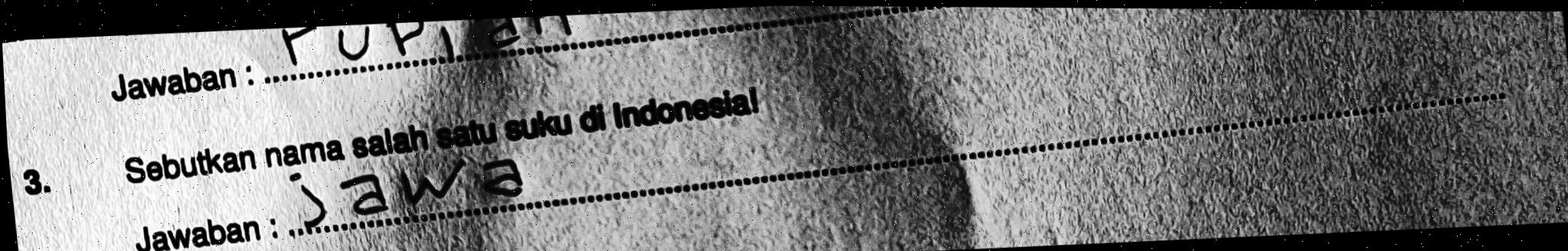jawaban: (285, 152, 536, 233)
